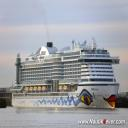cruises: (12, 38, 123, 113)
